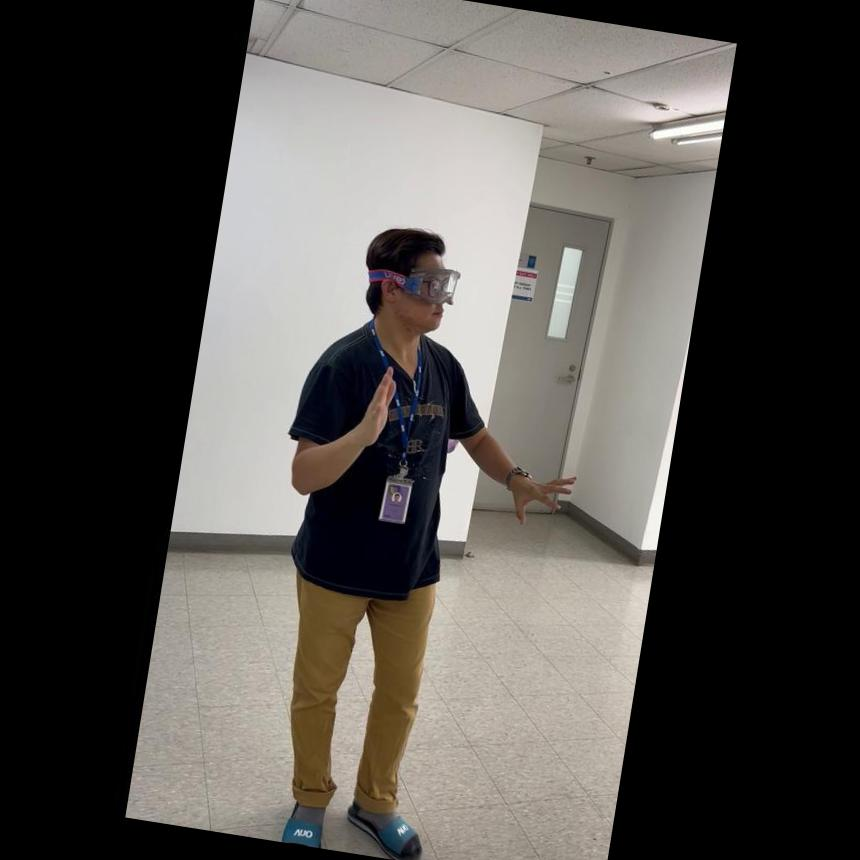No-gloves: (498, 458, 577, 528), (356, 364, 408, 458)
